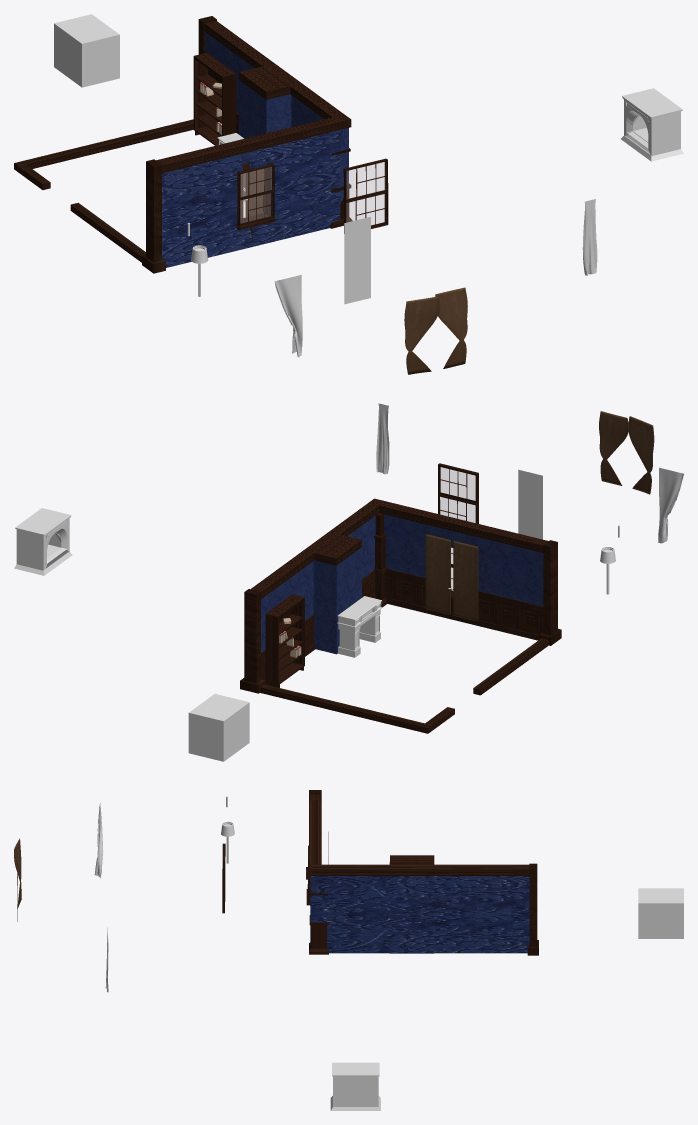
The model's file is LOL1.fbx.
3 views of the same model, one above another, from view 1: azimuth 30°, elevation 25°; view 2: azimuth 150°, elevation 25°; view 3: azimuth 270°, elevation 25° (orthographic). The views are drawn at different scales.
Visible parts, largest first — view 1: Cube.001, Cube, Cube.003, Cube.022, Cube.044, Cube.023, Plane.004, Cube.005, Cube.002, Cube.025, Cube.024, Plane.007 (+12 smaller); view 2: Cube.001, Cube.005, Cube, Cube.003, Cube.002, Cube.022, Cube.044, Cube.023, Cube.006, Plane.001, Plane.003, Cube.021 (+17 smaller); view 3: Cube.002, Cube.023, Cube.003, Cube, Cube.022, Cube.021, Cube.011.
Boxes of the visible parts, left/top/right/bottom form: Cube.001: left=162, top=130, right=340, bottom=267; Cube: left=54, top=14, right=119, bottom=87; Cube.003: left=621, top=88, right=683, bottom=161; Cube.022: left=156, top=117, right=351, bottom=173; Cube.044: left=193, top=52, right=236, bottom=145; Cube.023: left=204, top=20, right=349, bottom=121; Plane.004: left=344, top=217, right=370, bottom=304; Cube.005: left=239, top=80, right=291, bottom=138; Cube.002: left=205, top=32, right=348, bottom=203; Cube.025: left=14, top=119, right=193, bottom=168; Cube.024: left=142, top=159, right=165, bottom=273; Plane.007: left=404, top=296, right=440, bottom=374; Cube.001: left=384, top=514, right=543, bottom=606; Cube.005: left=313, top=547, right=361, bottom=654; Cube: left=188, top=694, right=249, bottom=761; Cube.003: left=14, top=508, right=72, bottom=575; Cube.002: left=261, top=516, right=375, bottom=652; Cube.022: left=374, top=498, right=548, bottom=552; Cube.044: left=265, top=594, right=304, bottom=687; Cube.023: left=251, top=499, right=383, bottom=598; Cube.006: left=337, top=596, right=381, bottom=657; Plane.001: left=453, top=541, right=478, bottom=621; Plane.003: left=425, top=534, right=450, bottom=614; Cube.021: left=240, top=589, right=265, bottom=693; Cube.002: left=311, top=876, right=529, bottom=953; Cube.023: left=311, top=864, right=529, bottom=875; Cube.003: left=330, top=1062, right=380, bottom=1110; Cube: left=638, top=888, right=683, bottom=938; Cube.022: left=309, top=794, right=320, bottom=875; Cube.021: left=527, top=863, right=538, bottom=955; Cube.011: left=309, top=886, right=328, bottom=954.
Bounding box in the file's own units: 62.71 × 14.02 × 79.89.
